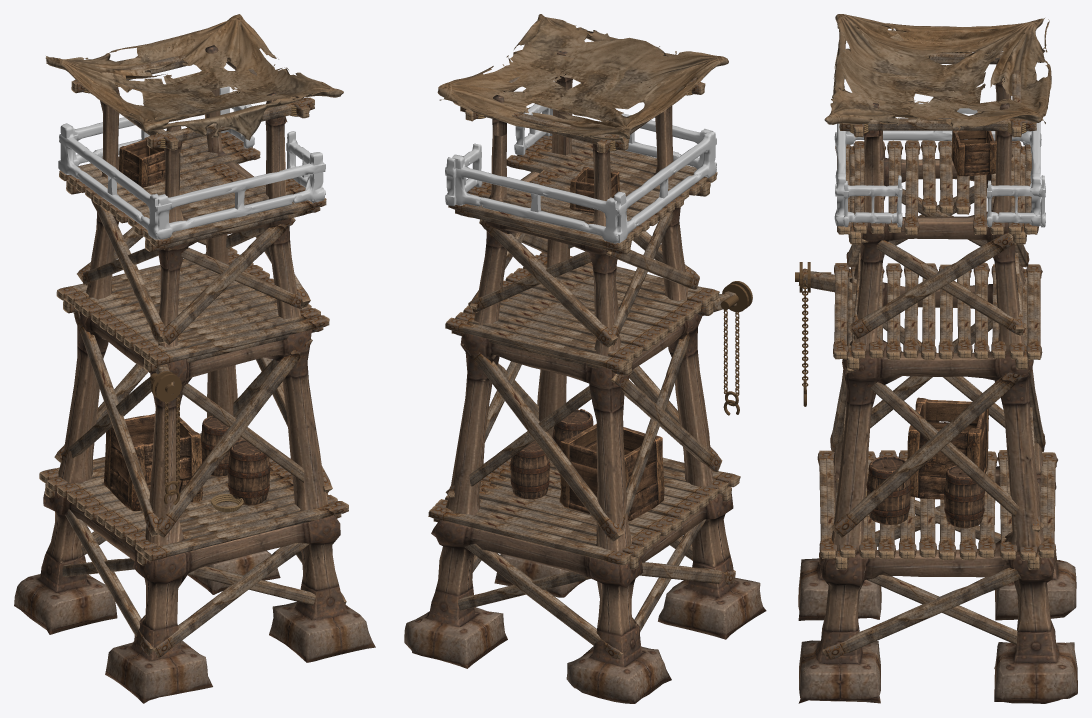
File: Tower.fbx
3 renders of one model, left to right at view 1: azimuth 30°, elevation 25°; view 2: azimuth 150°, elevation 25°; view 3: azimuth 270°, elevation 25°, orthographic. The views are drawn at different scales.
Parts seen in each view (by area): view 1: 主塔架_原件复制, 破旧篷布_屋顶, 顶层护栏_前后, 底层大木箱, X撑_前后_1_-1_A, 顶层护栏_左, X撑_左右_1_-1_A, 平台1_旧木板_01, X撑_前后_0_-1_A, X撑_前后_2_-1_A, 底层铁箍桶_A, 平台2_旧木板_01 (+45 smaller); view 2: 主塔架_原件复制, 破旧篷布_屋顶, 顶层护栏_前后.001, 底层大木箱, X撑_前后_1_1_A, 顶层护栏_左, 平台1_旧木板_12, X撑_前后_2_1_A, X撑_前后_0_1_A, 平台2_旧木板_12, X撑_左右_1_-1_A, X撑_左右_1_-1_B (+43 smaller); view 3: 主塔架_原件复制, 破旧篷布_屋顶, 底层大木箱, X撑_左右_1_1_A, X撑_左右_0_1_A, X撑_左右_2_1_A, X撑_左右_1_1_B, X撑_左右_2_1_B, 底层铁箍桶_B, 顶层物资箱, 底层铁箍桶_A, X撑_左右_0_1_B (+46 smaller).
Part boxes in pixels (box(x1,y1,x2,y2)): 主塔架_原件复制: box(14, 45, 375, 703); 破旧篷布_屋顶: box(45, 14, 343, 140); 顶层护栏_前后: box(156, 152, 325, 239); 底层大木箱: box(104, 413, 202, 511); X撑_前后_1_-1_A: box(155, 339, 312, 537); 顶层护栏_左: box(58, 123, 158, 239); X撑_左右_1_-1_A: box(73, 311, 158, 536); 平台1_旧木板_01: box(143, 500, 348, 561); X撑_前后_0_-1_A: box(152, 543, 309, 657); X撑_前后_2_-1_A: box(162, 217, 295, 344); 底层铁箍桶_A: box(227, 439, 270, 505); 平台2_旧木板_01: box(149, 315, 329, 366); 主塔架_原件复制: box(404, 51, 766, 703); 破旧篷布_屋顶: box(437, 14, 728, 143); 顶层护栏_前后.001: box(452, 154, 618, 243); 底层大木箱: box(559, 424, 664, 521); X撑_前后_1_1_A: box(463, 345, 624, 541); 顶层护栏_左: box(614, 131, 716, 243); 平台1_旧木板_12: box(428, 505, 631, 565); X撑_前后_2_1_A: box(479, 220, 617, 347); X撑_前后_0_1_A: box(464, 543, 623, 659); 平台2_旧木板_12: box(445, 317, 627, 371); X撑_左右_1_-1_A: box(611, 374, 721, 472); X撑_左右_1_-1_B: box(618, 332, 689, 529); 主塔架_原件复制: box(798, 59, 1077, 703); 破旧篷布_屋顶: box(824, 14, 1051, 133); 底层大木箱: box(907, 397, 988, 499); X撑_左右_1_1_A: box(832, 370, 1029, 537); X撑_左右_0_1_A: box(822, 567, 1021, 659); X撑_左右_2_1_A: box(849, 233, 1014, 338); X撑_左右_1_1_B: box(870, 382, 1043, 529); X撑_左右_2_1_B: box(876, 240, 1026, 335); 底层铁箍桶_B: box(943, 465, 984, 528); 顶层物资箱: box(951, 130, 996, 176); 底层铁箍桶_A: box(866, 456, 911, 524); X撑_左右_0_1_B: box(863, 567, 1017, 644).
Bounding box in the file's own units: 425 × 979 × 430.
